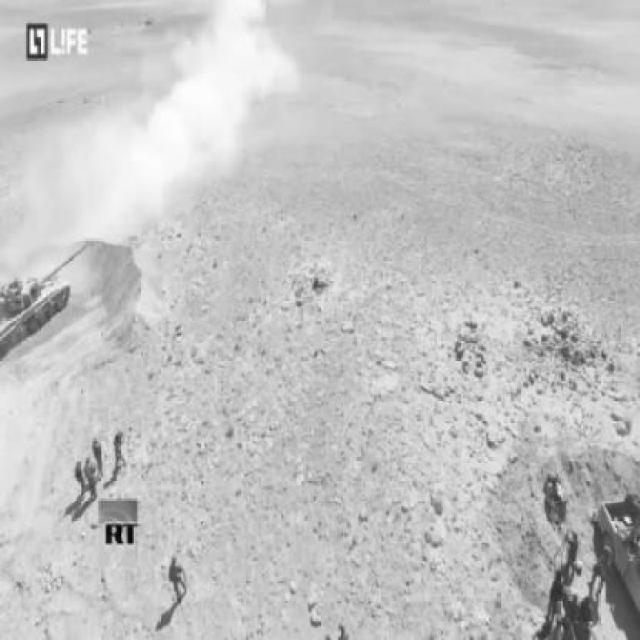Person: (588, 544, 612, 596), (546, 566, 563, 621), (169, 553, 187, 604), (566, 527, 580, 581), (111, 427, 126, 475), (83, 453, 96, 499), (91, 436, 105, 477), (74, 458, 85, 506)
Vehicle: (1, 269, 72, 361), (592, 493, 639, 611)
